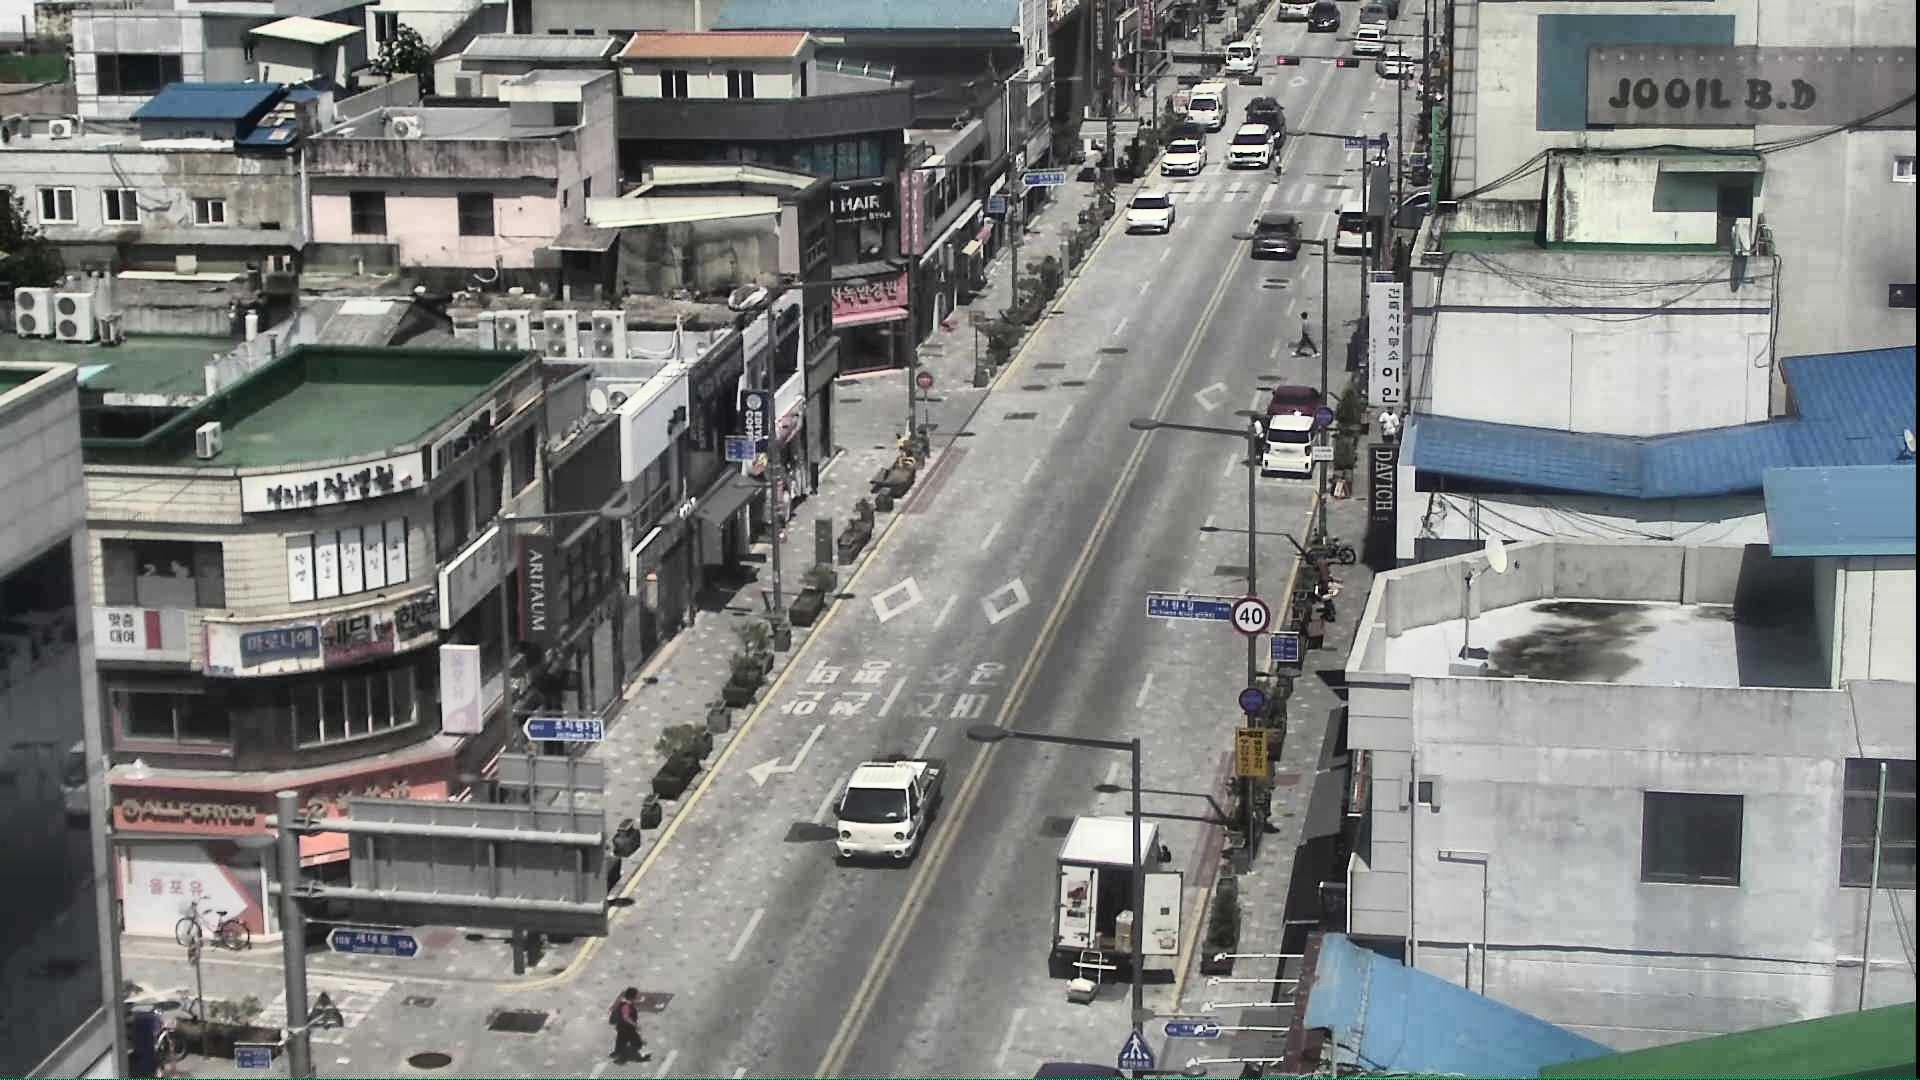crosswalk: (1271, 145, 1286, 189)
jaywalk: (605, 981, 654, 1062), (1292, 309, 1321, 359), (1246, 409, 1269, 464), (1400, 65, 1414, 88), (1254, 30, 1262, 57)
sidewalk: (1375, 402, 1403, 463)
